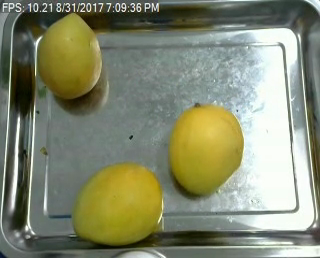Mango: (69, 161, 162, 248), (165, 103, 243, 194), (36, 12, 105, 104)
